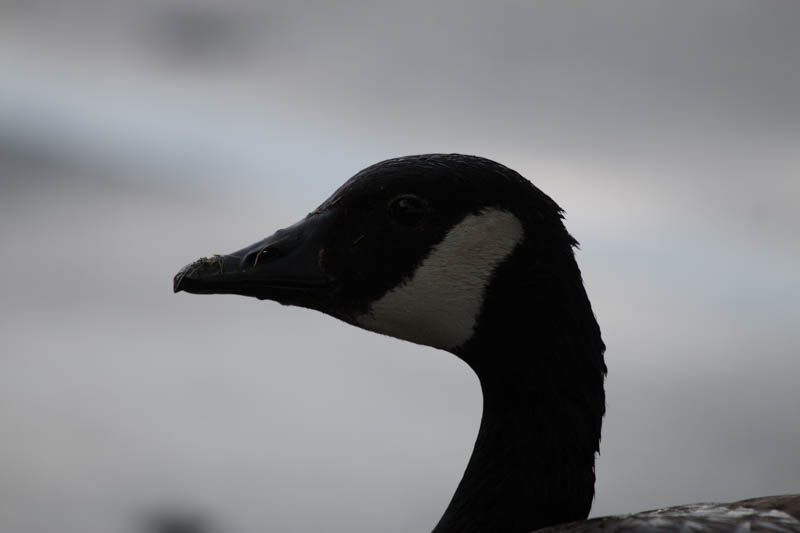goose-head: (172, 153, 602, 356)
